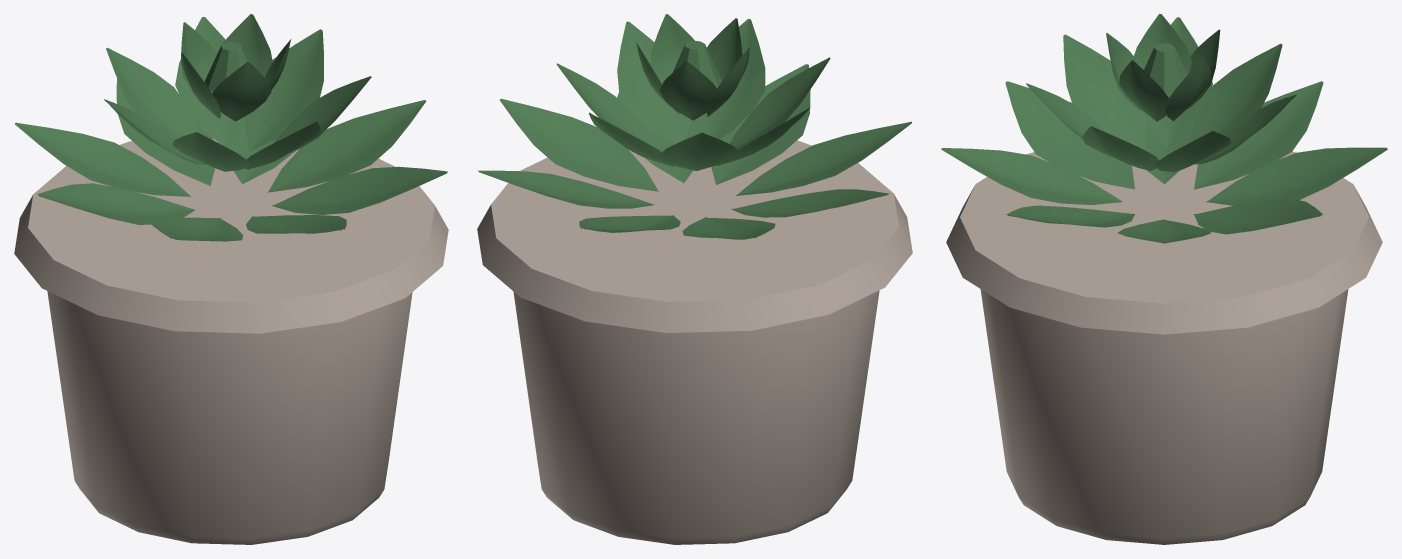
Rendered from desk-plant.glb.
The picture shows the model from 3 angles, left to right: view 1: azimuth 30°, elevation 25°; view 2: azimuth 150°, elevation 25°; view 3: azimuth 270°, elevation 25°; orthographic projection.
Visible parts, largest first — view 1: desk-plant; view 2: desk-plant; view 3: desk-plant.
Part boxes in pixels (x1,y1,x2,y2): desk-plant: (14, 14, 448, 544); desk-plant: (477, 14, 912, 544); desk-plant: (941, 14, 1387, 544).
Size of the model in its own units: 0.1288 by 0.1417 by 0.1288.
